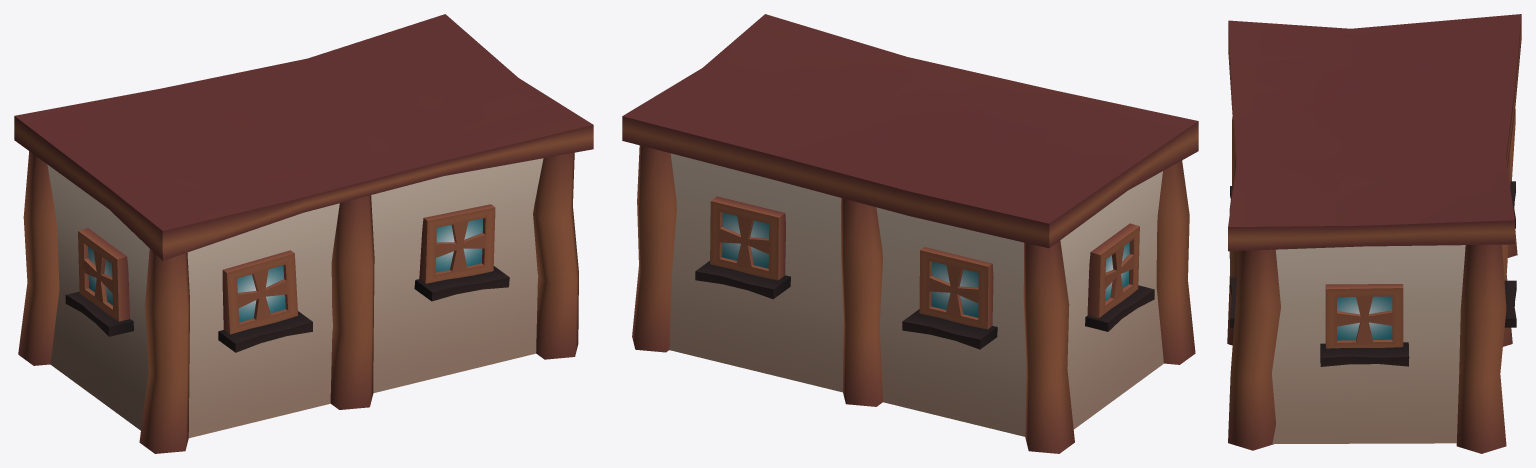
File: FloorB02.fbx
3 views of the same model, side by side, from view 1: azimuth 30°, elevation 25°; view 2: azimuth 150°, elevation 25°; view 3: azimuth 270°, elevation 25° (orthographic).
Parts seen in each view (by area): view 1: FloorB02; view 2: FloorB02; view 3: FloorB02.
Boxes of the visible parts, bbox=[...] form: FloorB02: bbox=[14, 14, 593, 453]; FloorB02: bbox=[622, 14, 1198, 453]; FloorB02: bbox=[1227, 14, 1521, 453].
Size of the model in its own units: 661 by 334 by 387.
1 material, 1 textured.
